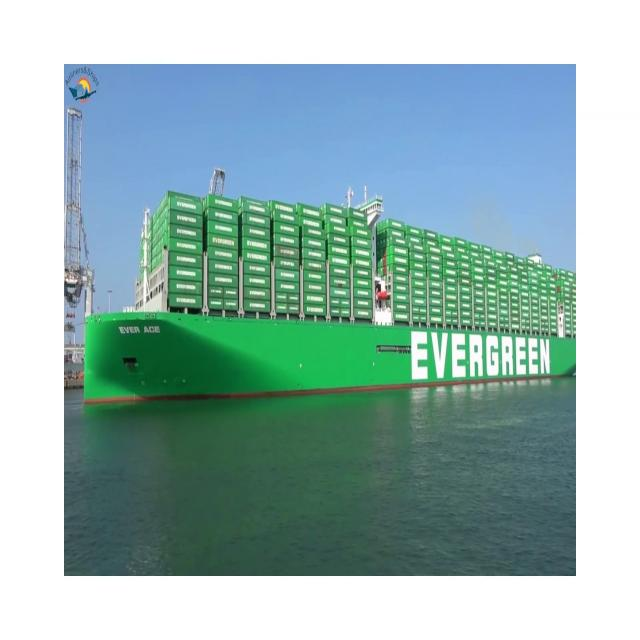OCR: (401, 321, 556, 392), (108, 310, 166, 346)
